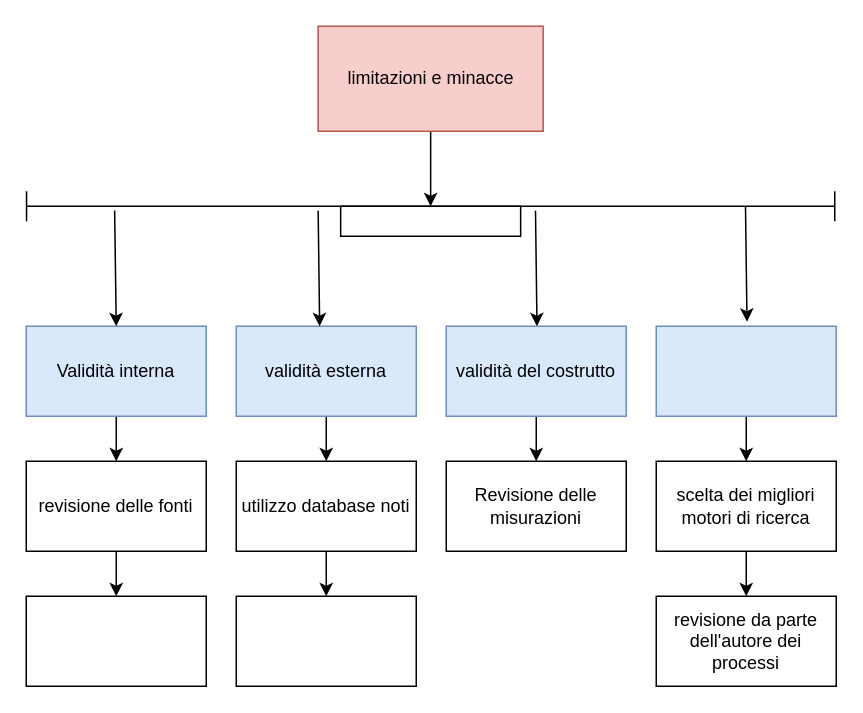
Image size: 863x713. Some labels were removed from this diagram. The centre of each missing label's shape, as x and y in pixels:
"analisi" goes at point 430,220.
"garanzia della replicabilità" goes at point 115,640.
"utilizzo unica lingua" goes at point 325,640.
"validità delle conclusioni" goes at point 745,370.
